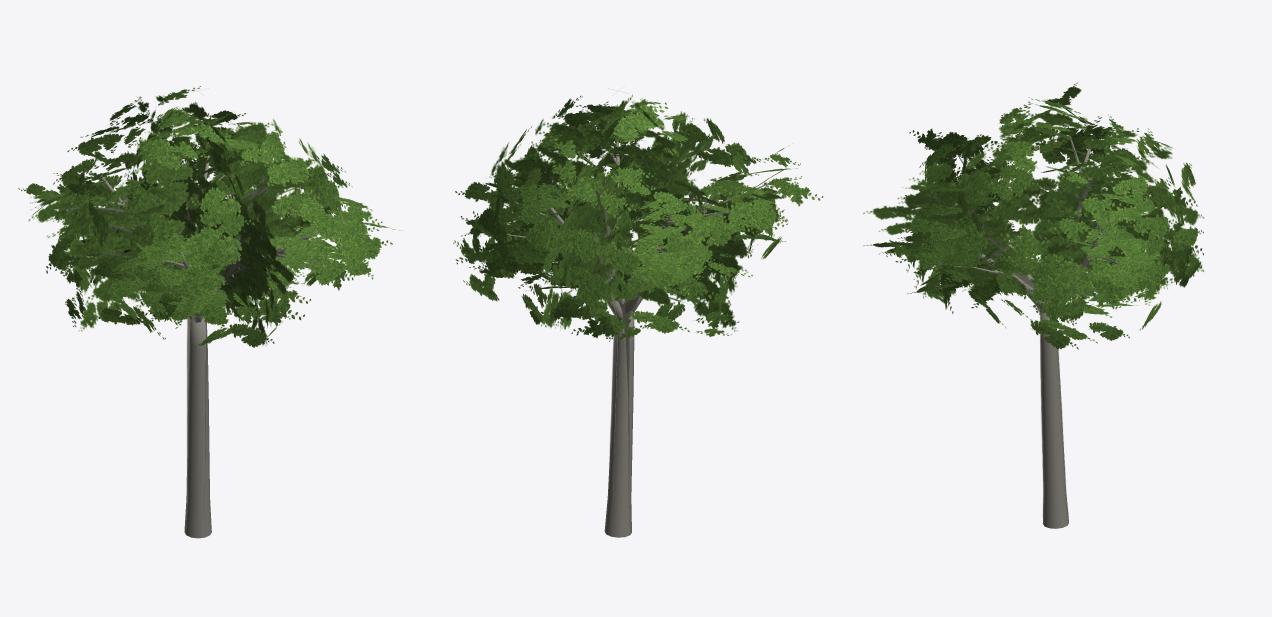
File: tree_beech.glb
3 renders of one model, left to right at view 1: azimuth 30°, elevation 25°; view 2: azimuth 150°, elevation 25°; view 3: azimuth 270°, elevation 25°, orthographic. The views are drawn at different scales.
Parts seen in each view (by area): view 1: crown, far, trunk; view 2: crown, far, trunk; view 3: crown, far, trunk.
Boxes of the visible parts, x1,y1,x2,y2 form: crown: (18,86,402,347); far: (28,95,325,528); trunk: (71,155,350,538); crown: (453,95,823,341); far: (489,94,787,528); trunk: (507,142,771,537); crown: (863,82,1203,349); far: (863,111,1203,516); trunk: (938,125,1122,528).
Size of the model in its own units: 11.03 by 12.8 by 11.03.
Materials: 3 (3 with a texture image).
